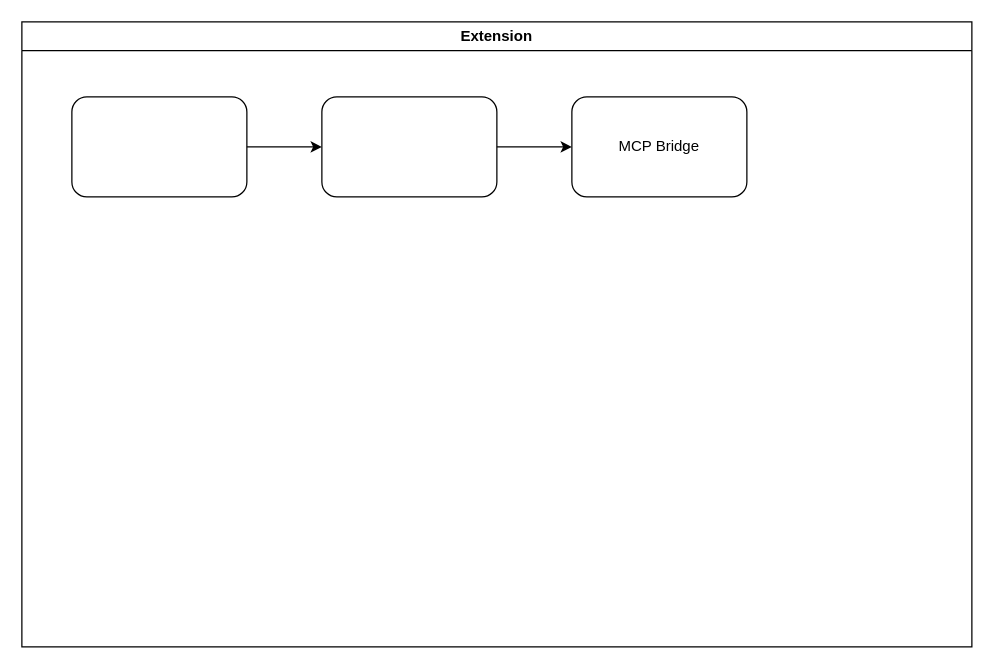
Some shapes in this 994 by 669 pixel diagram are drawn without their labels. The shapes that lost their labels are listed below. From the top down, each one's centre as x and y in pixels, then its label:
At pixel 159 146: "LangGraph".
At pixel 409 146: "execute_tools Node".
